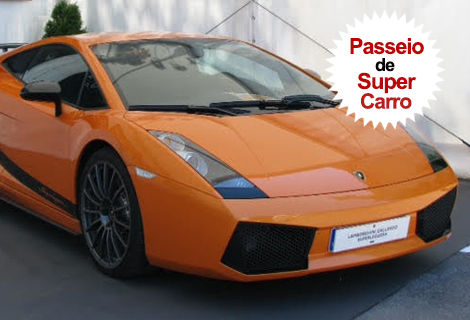Carro: (1, 32, 458, 278)
